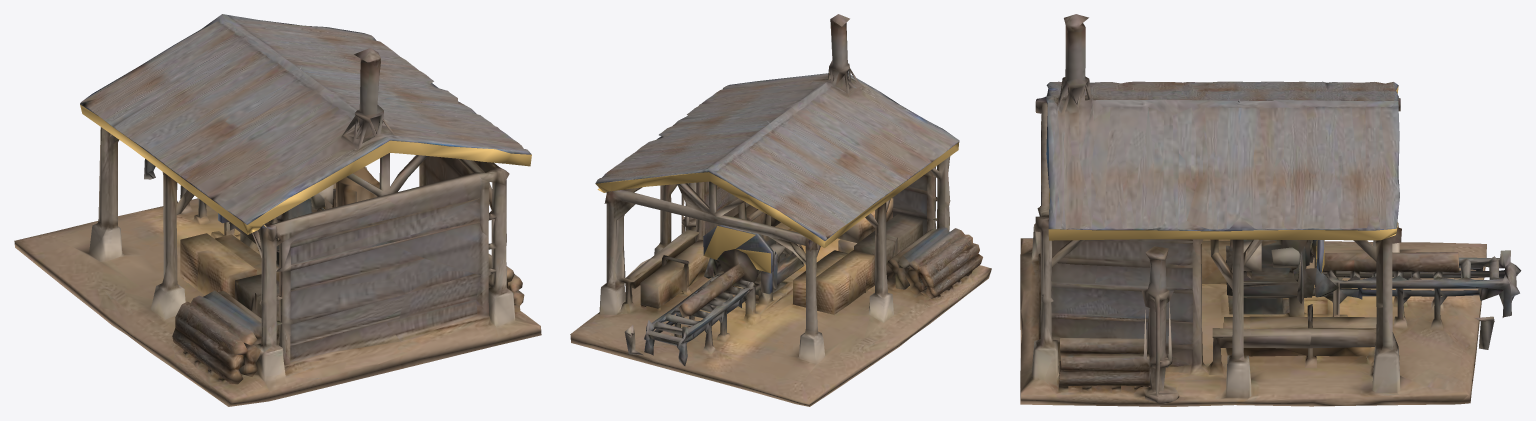
Rendered from lumber_mill.glb.
3 views of the same model, side by side, from view 1: azimuth 30°, elevation 25°; view 2: azimuth 150°, elevation 25°; view 3: azimuth 270°, elevation 25° (orthographic). The views are drawn at different scales.
Parts seen in each view (by area): view 1: Model; view 2: Model; view 3: Model.
Part boxes in pixels (box(x1,y1,x2,y2)): Model: box(14, 14, 541, 406); Model: box(570, 14, 991, 406); Model: box(1020, 14, 1521, 406).
Size of the model in its own units: 1.58 by 1.4 by 2.
Materials: 2 (1 with a texture image).
